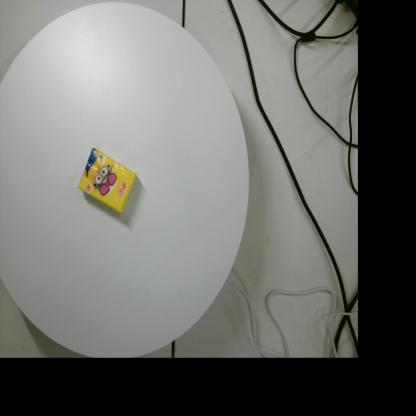Tissue: (77, 148, 137, 214)
